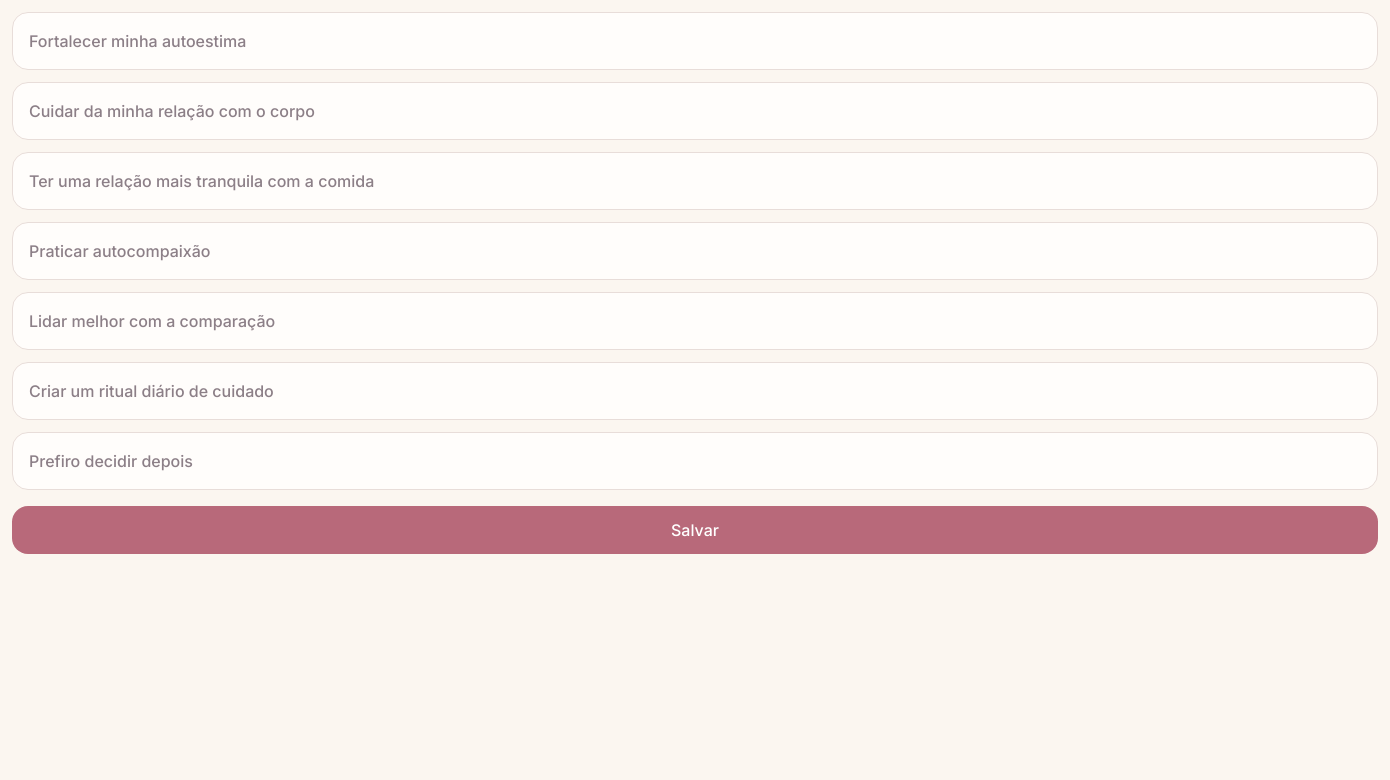
Test: SeletorObjetivos › em modo de edição (sem aoSalvarComSucesso), mostra confirmação "Salvo." em vez de avançar
Click the button "Salvar". click: (695, 530)
box: [12,506,1378,554]
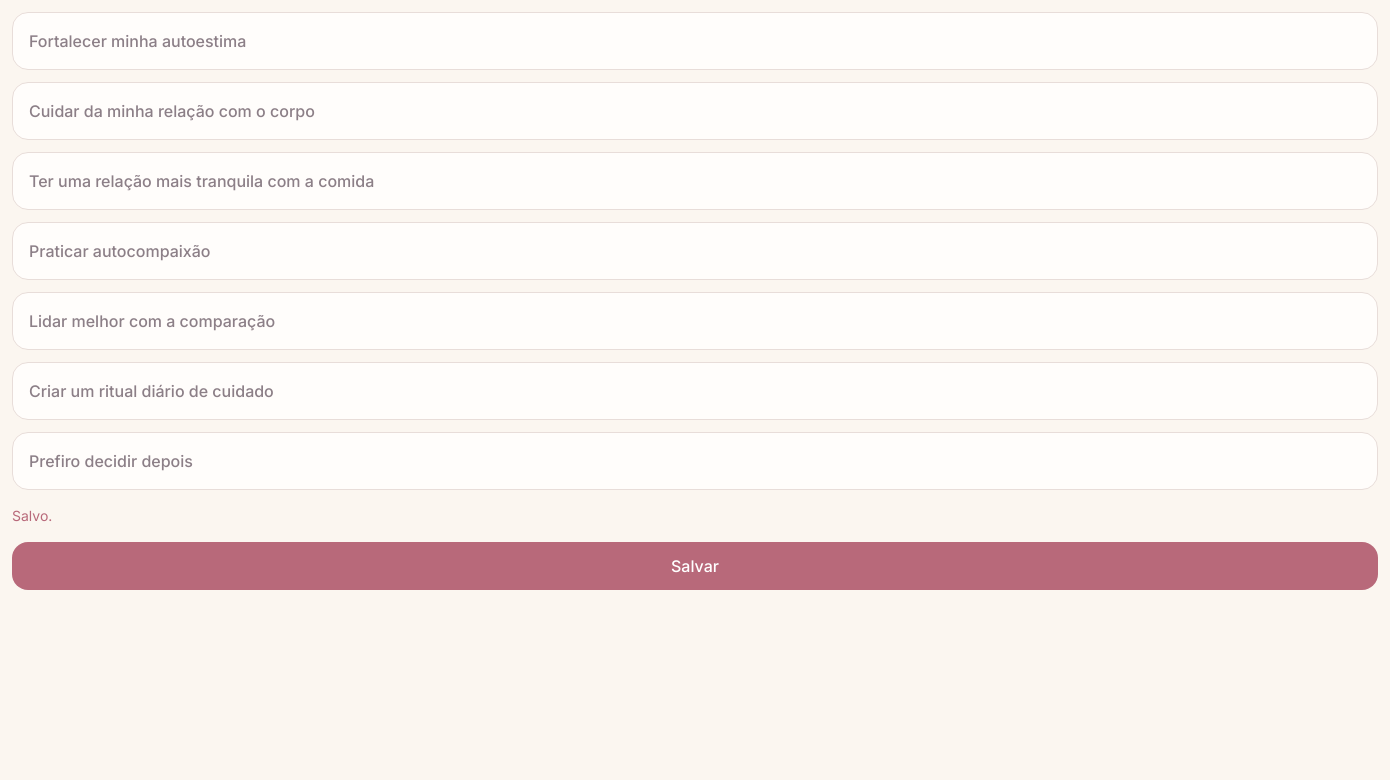
Now the text "Salvo." is shown, box [12,507,52,524]
